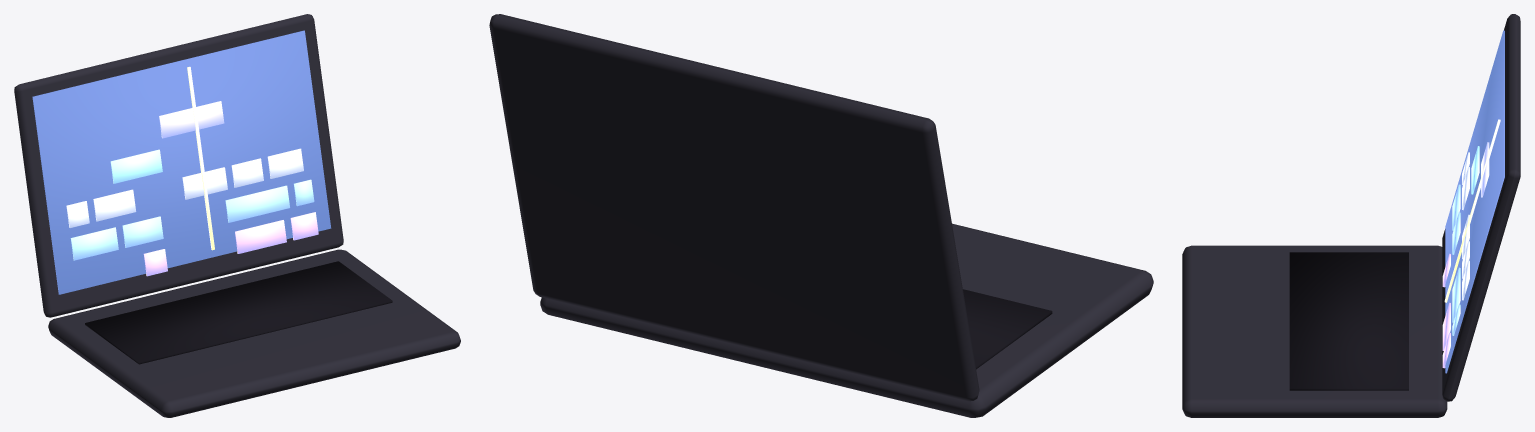
The model's file is laptop_daw.glb.
3 renders of one model, left to right at view 1: azimuth 30°, elevation 25°; view 2: azimuth 150°, elevation 25°; view 3: azimuth 270°, elevation 25°, orthographic. The views are drawn at different scales.
Visible parts, largest first — view 1: lid, laptop_daw, playhead; view 2: lid, laptop_daw; view 3: laptop_daw, lid, playhead.
Boxes of the visible parts, x1,y1,x2,y2 form: lid: (14, 14, 343, 317); laptop_daw: (48, 249, 460, 417); playhead: (187, 66, 214, 250); lid: (489, 14, 979, 401); laptop_daw: (540, 223, 1153, 417); laptop_daw: (1182, 245, 1447, 417); lid: (1442, 14, 1520, 401); playhead: (1444, 119, 1500, 302).
Size of the model in its own units: 0.33 by 0.2389 by 0.2936.
